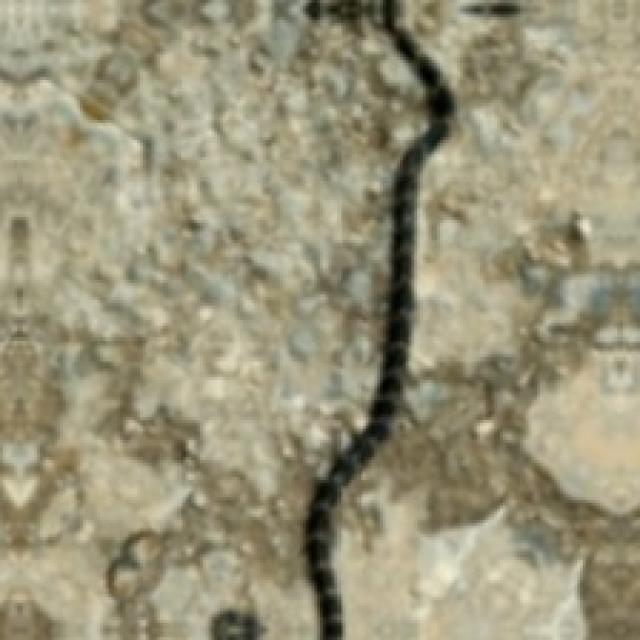king cobra: (306, 0, 451, 637)
